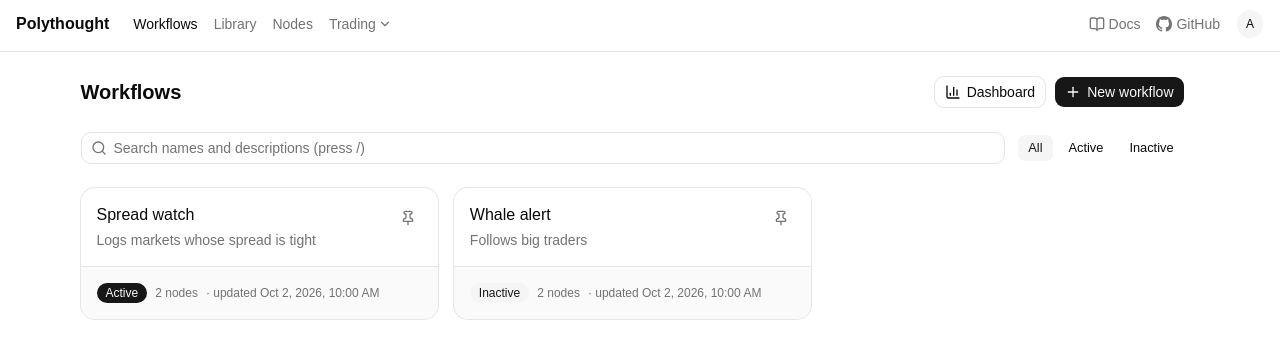
Test: workflows page › searches names and descriptions, and narrows to those on or off
Expected: the link "Whale alert" is shown, top-left (470, 206), bottom-right (551, 223)
Type "traders" into the search field named "Search workflows" at (543, 148), box top-left (80, 132), bottom-right (1005, 164)
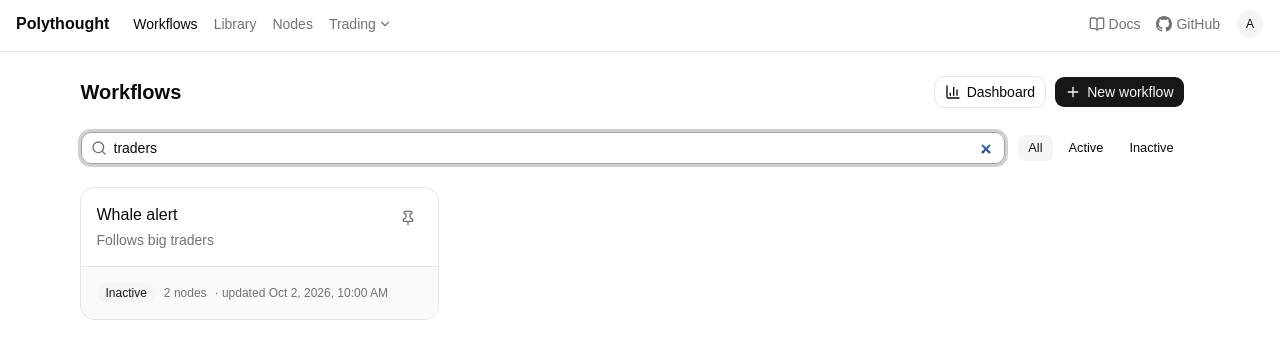
Expected: the link "Whale alert" is shown, top-left (96, 206), bottom-right (177, 223)
Now the link "Spread watch" is gone
Clear the search field named "Search workflows" at (543, 148), box top-left (80, 132), bottom-right (1005, 164)
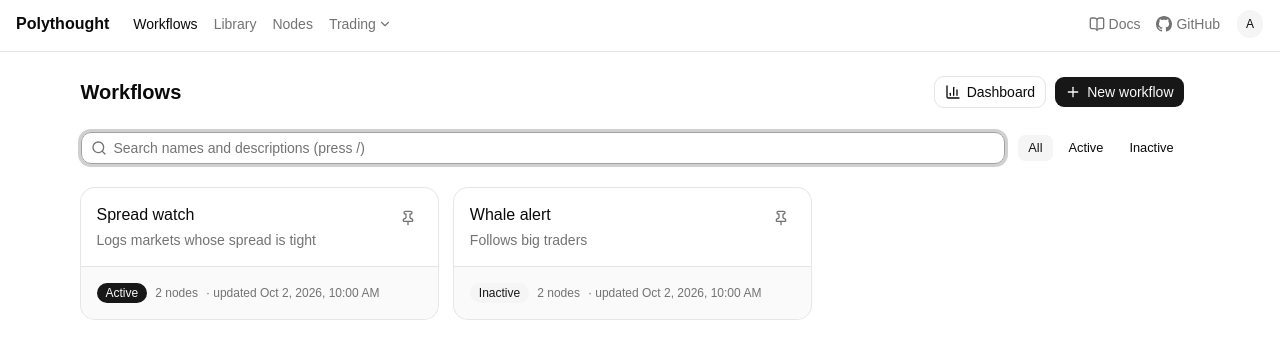
Click the button "Active" at (1086, 148), box top-left (1058, 134), bottom-right (1114, 162)
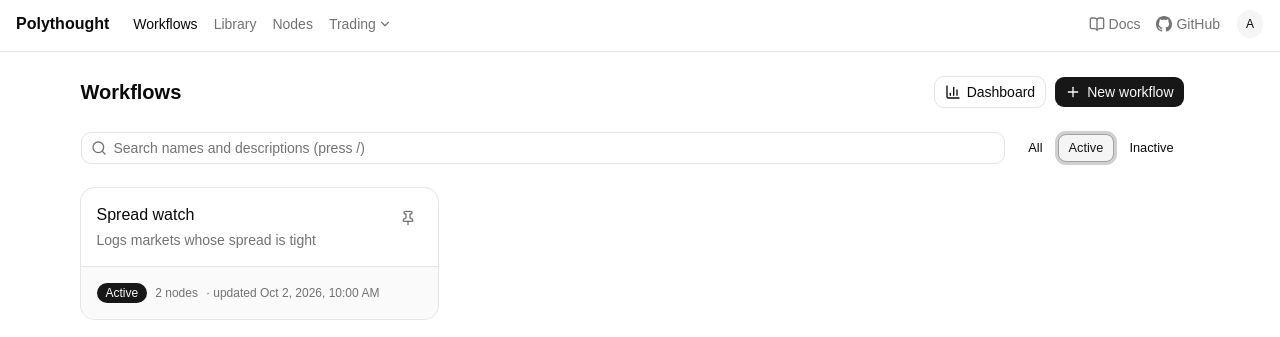
Now the link "Whale alert" is gone
Type "nothing like it" into the search field named "Search workflows" at (543, 148), box top-left (80, 132), bottom-right (1005, 164)
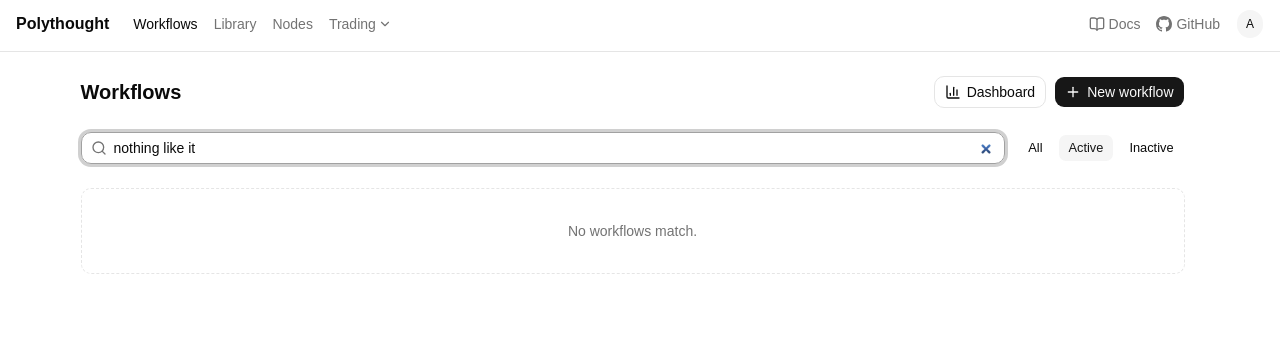
Now the text "No workflows match." is shown, box top-left (80, 188), bottom-right (1184, 274)
